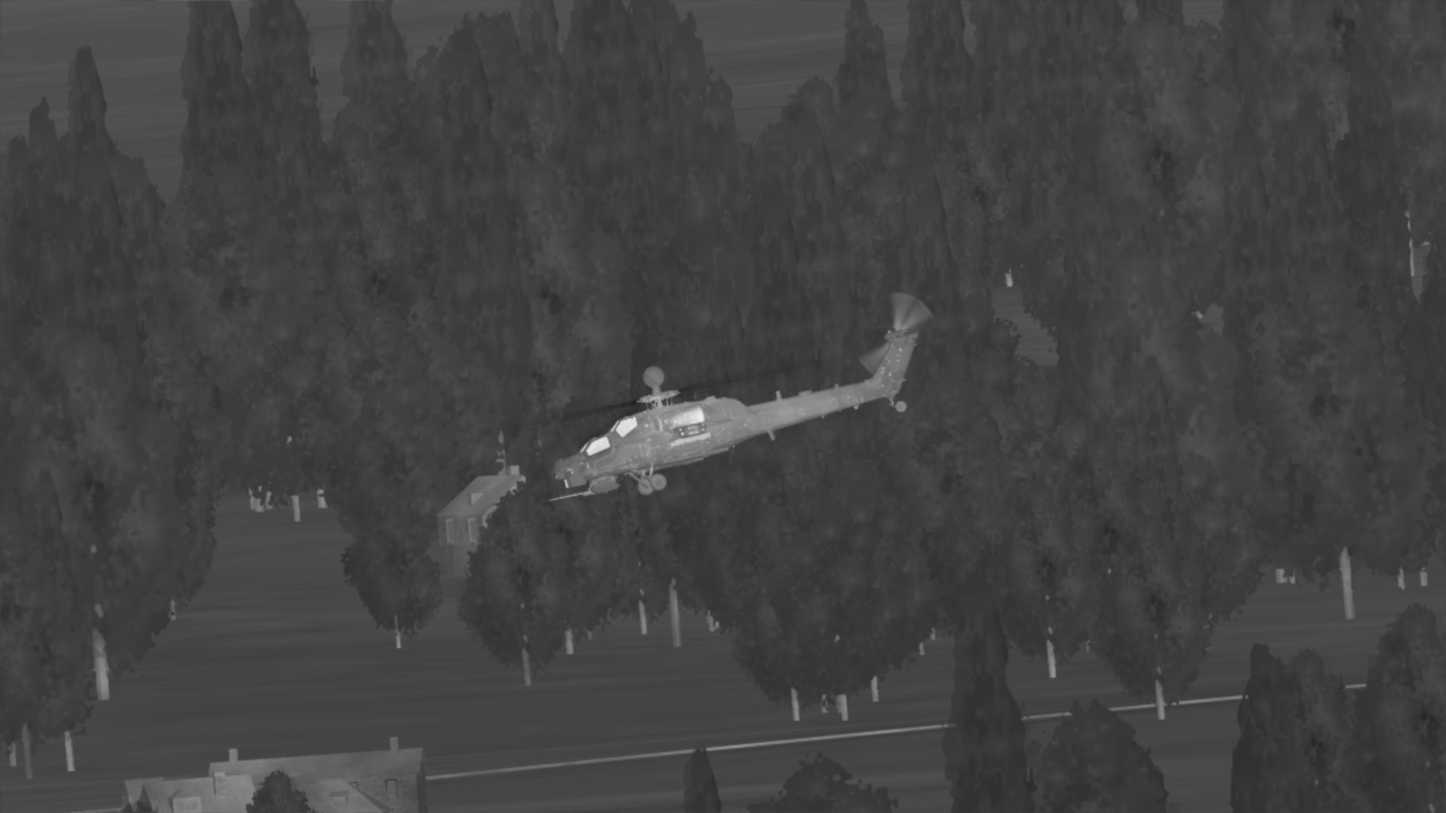mi28: (545, 291, 940, 503)
